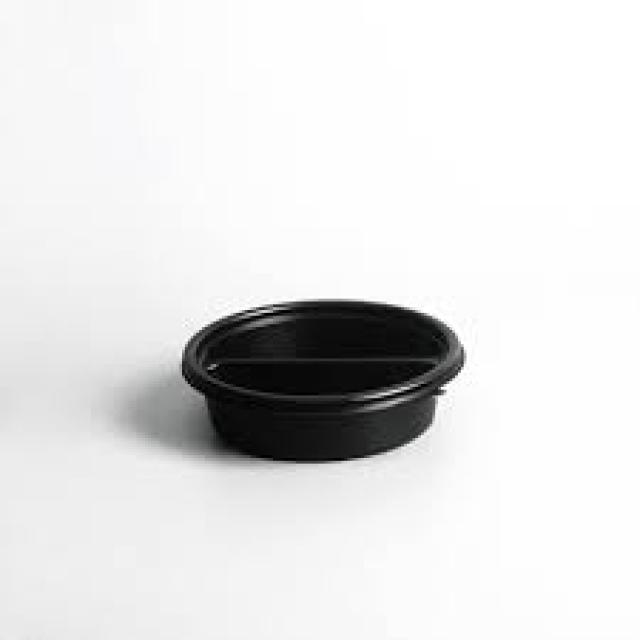disposable: (178, 268, 488, 490)
